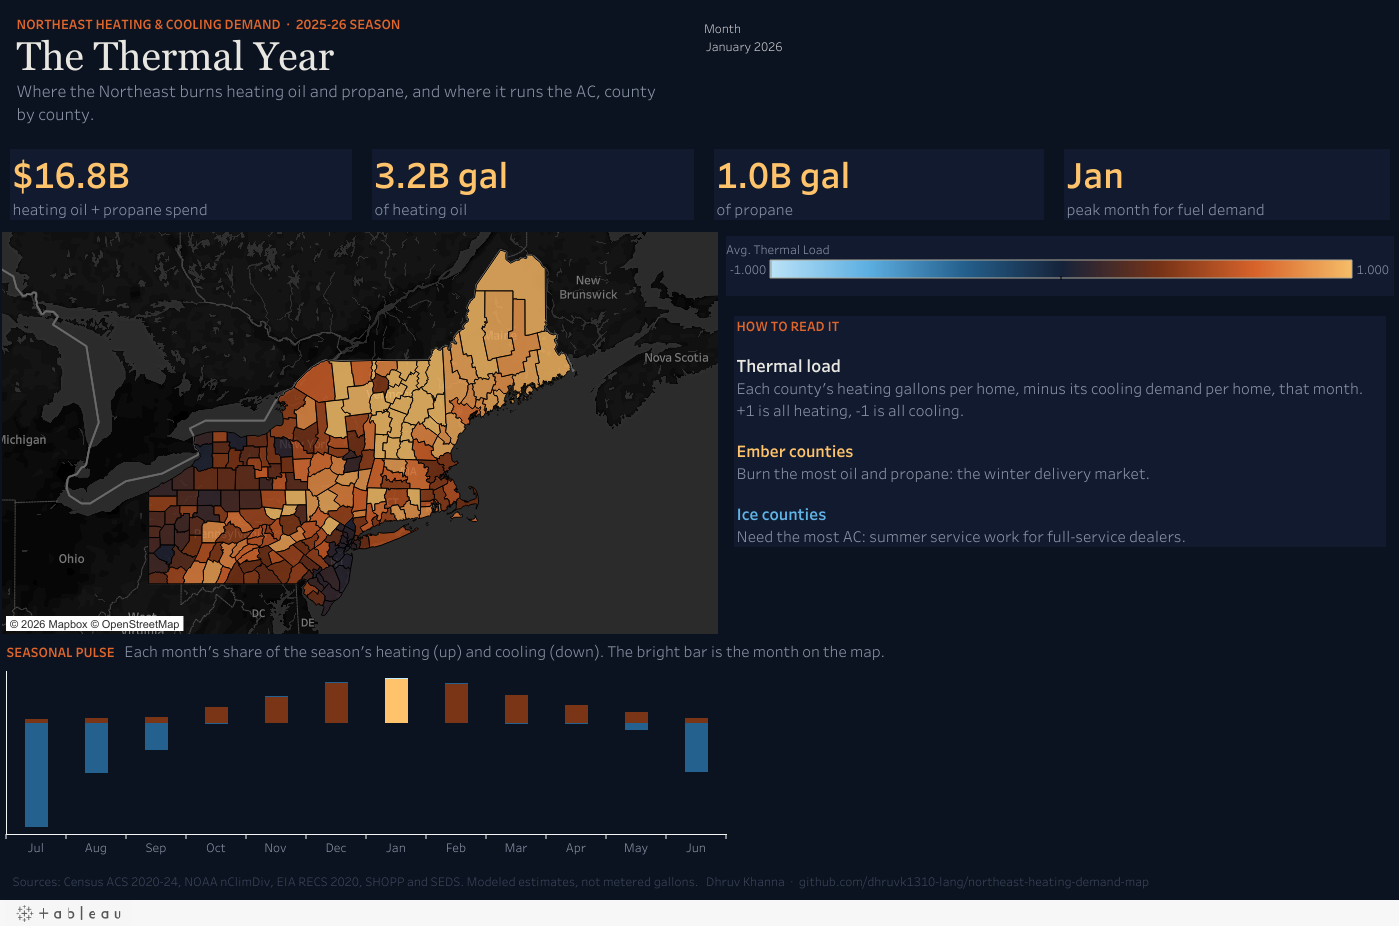

This screenshot's page, from the dashboard's own definition file:
{"tool":"tableau","page":{"name":"The Thermal Year","canvas":[1400,900],"ordinal":0},"visuals":[{"type":"text","box":[0,0,980,117]},{"type":"parameter","param":"[Parameters].[Parameter 1]","box":[980,0,420,117]},{"type":"text","box":[0,117,350,81]},{"type":"text","box":[350,117,350,81]},{"type":"text","box":[700,117,350,81]},{"type":"text","box":[1050,117,350,81]},{"type":"worksheet","title":"Thermal Map","mark":"Automatic","box":[0,198,1036,450]},{"type":"legend","title":"Thermal Map","param":"[federated.1d875mm13w789317ga6xj1ro064z].[avg:thermal_load:qk]","box":[1036,198,364,81]},{"type":"text","box":[1036,279,364,369]},{"type":"text","box":[0,648,1400,27]},{"type":"worksheet","title":"Seasonal Pulse","mark":"Bar","rows":["share"],"cols":["month_abbr"],"box":[0,675,1400,189]},{"type":"text","box":[0,864,1400,36]}]}

Visuals, with their boxes in screenshot pixels (x1, y1, x2, y2), scaled from the page's 1400x900 canvas onto the 1399x926 screenshot:
text: crop(0, 0, 979, 120)
parameter: crop(979, 0, 1398, 120)
text: crop(0, 120, 350, 204)
text: crop(350, 120, 700, 204)
text: crop(700, 120, 1049, 204)
text: crop(1049, 120, 1398, 204)
"Thermal Map" worksheet: crop(0, 204, 1035, 667)
"Thermal Map" legend: crop(1035, 204, 1398, 287)
text: crop(1035, 287, 1398, 667)
text: crop(0, 667, 1398, 694)
"Seasonal Pulse" worksheet (Bar marks): crop(0, 694, 1398, 889)
text: crop(0, 889, 1398, 925)
